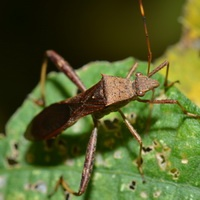insect: (81, 101, 199, 199), (24, 140, 69, 183), (154, 75, 199, 114), (77, 59, 134, 86), (46, 74, 74, 100)
